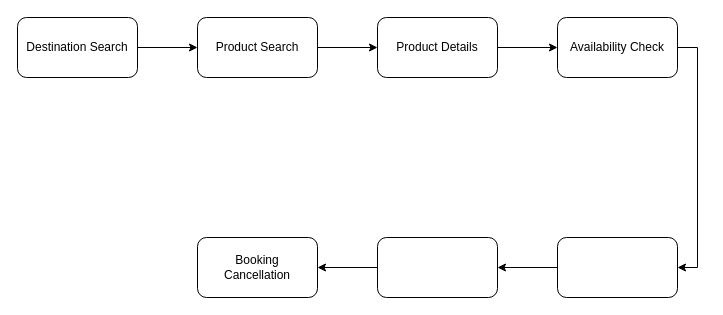
Some shapes in this 723 by 315 pixel diagram are drawn without their labels. The centre of each missing label's shape, as x and y in pixels:
Booking: pixel 437 267
Check Product Schedule: pixel 617 267
